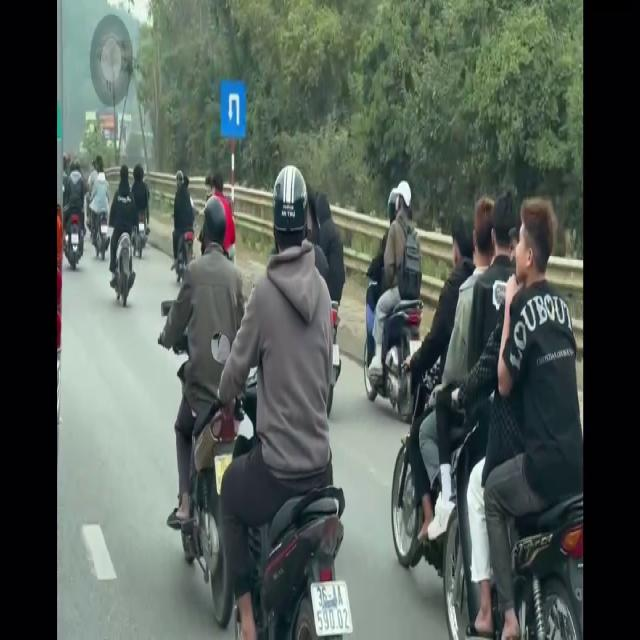helmet: (271, 160, 308, 296), (202, 189, 226, 271), (395, 174, 414, 231)
